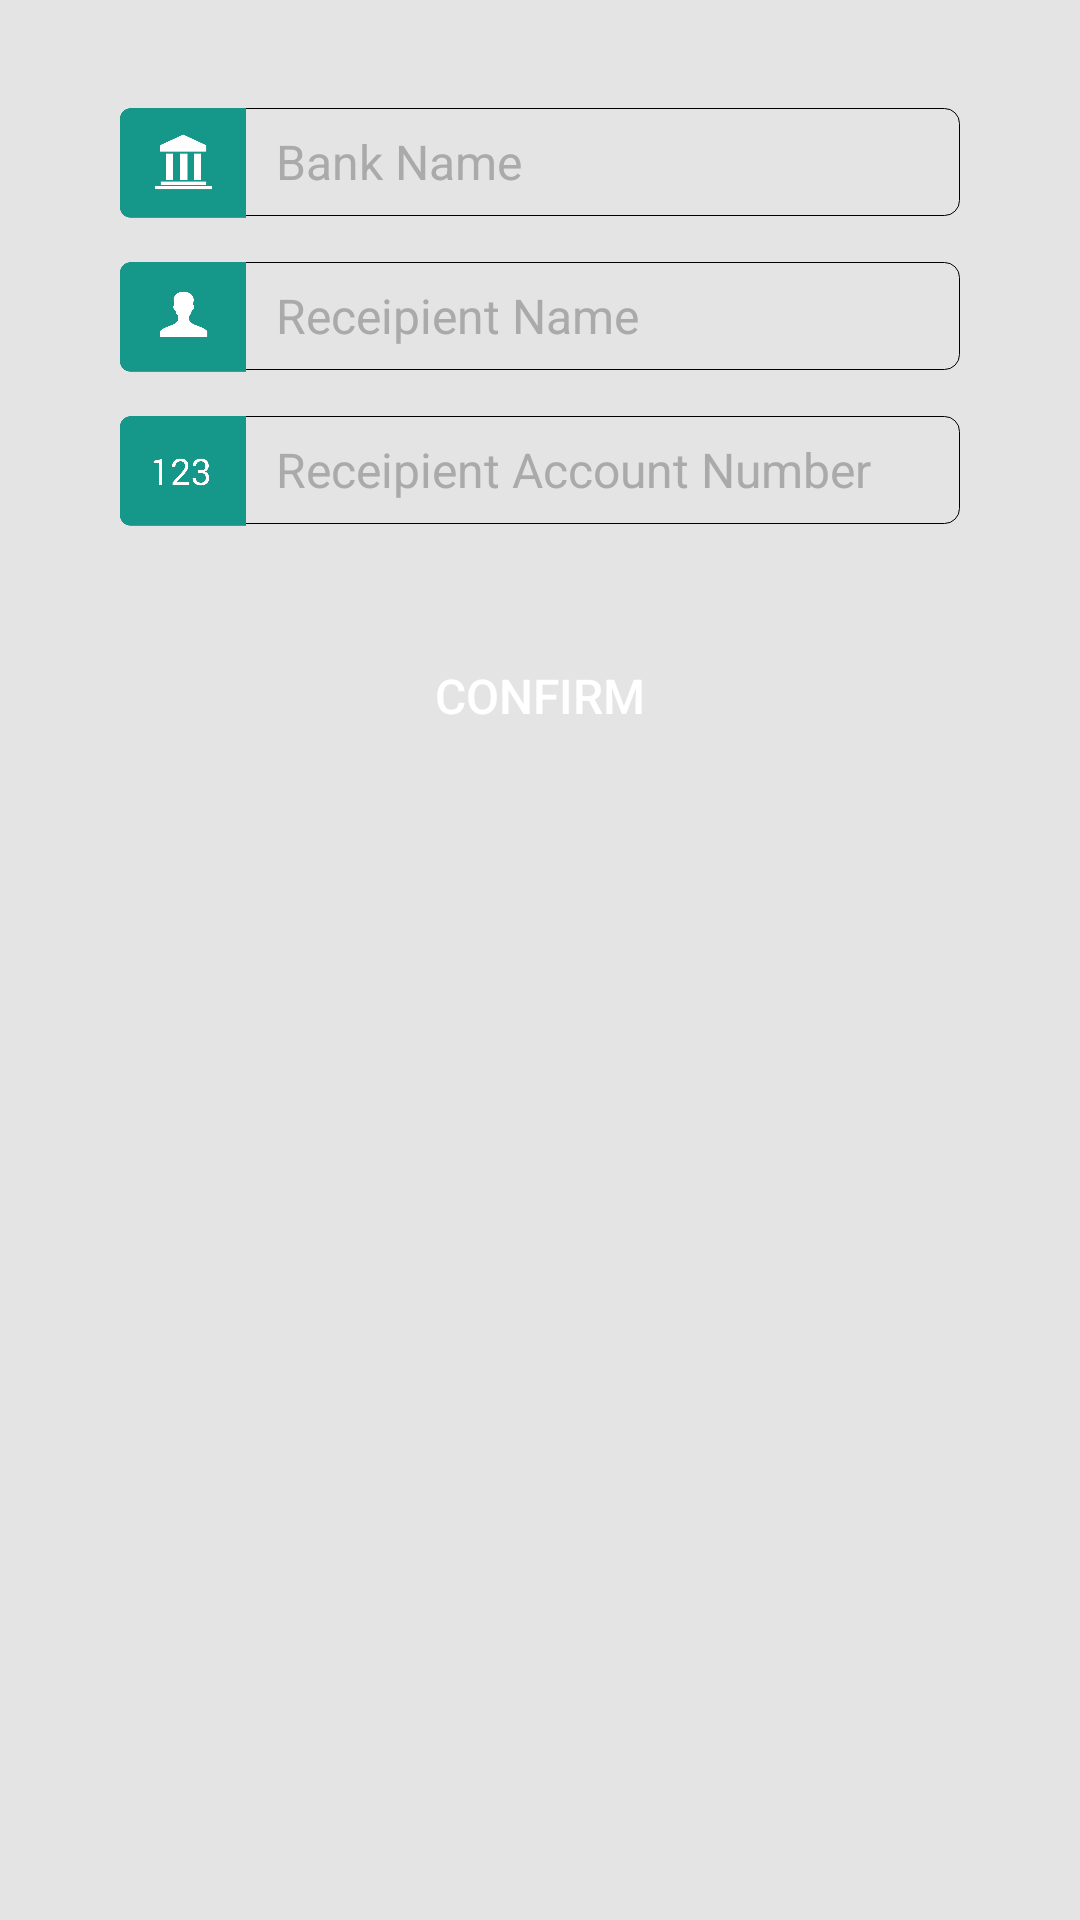

Locate icon controls on the screen. Image size 1080px×1920px, boxes as (x1,y1,x2,y2).
username: (120,262,246,372)
